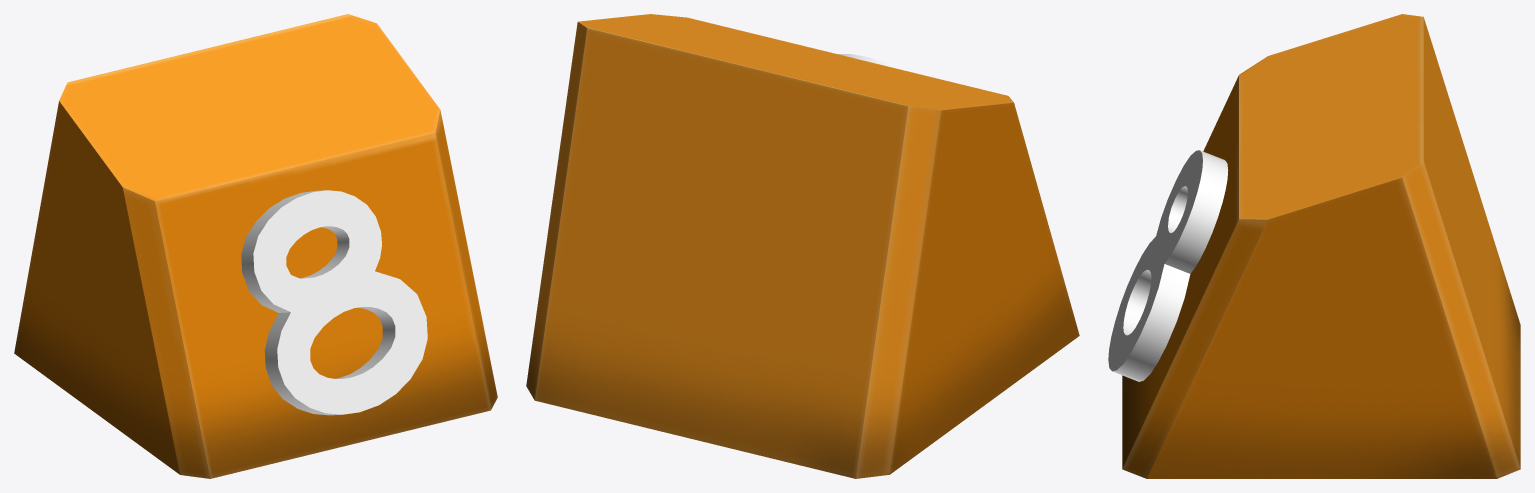
The model's file is hole8Mesh.FBX.
3 renders of one model, left to right at view 1: azimuth 30°, elevation 25°; view 2: azimuth 150°, elevation 25°; view 3: azimuth 270°, elevation 25°, orthographic. The views are drawn at different scales.
Visible parts, largest first — view 1: holeNumber8; view 2: holeNumber8; view 3: holeNumber8.
Part boxes in pixels (left/top/right/bottom): holeNumber8: left=14, top=14, right=497, bottom=478; holeNumber8: left=526, top=14, right=1079, bottom=478; holeNumber8: left=1108, top=14, right=1520, bottom=478.
Bounding box in the file's own units: 2026 × 1779 × 2157.
